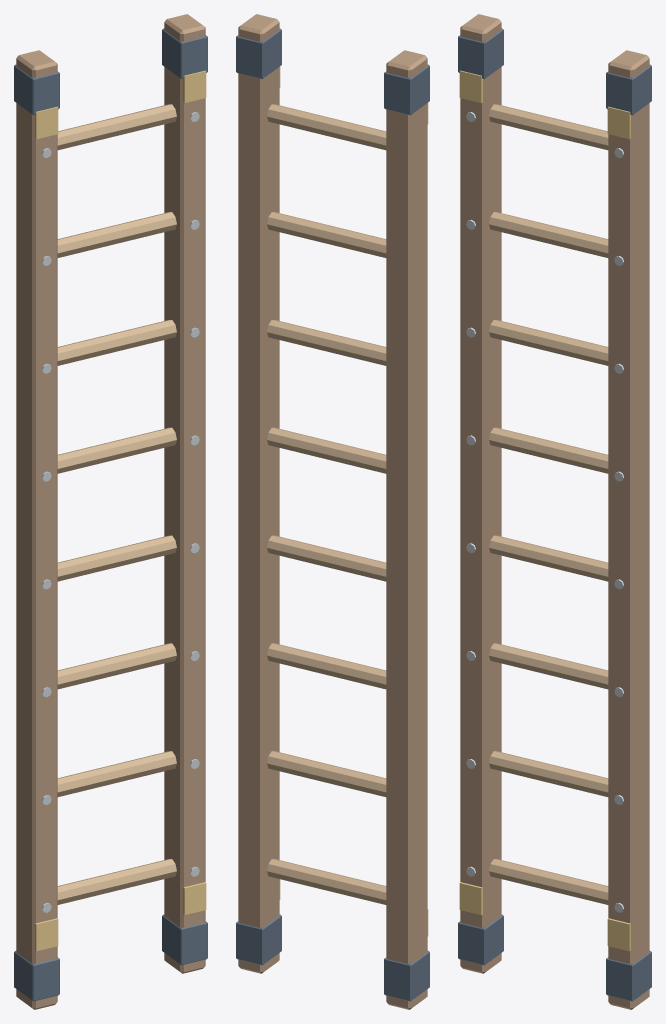
File: ladder.glb
3 renders of one model, left to right at view 1: azimuth 30°, elevation 25°; view 2: azimuth 150°, elevation 25°; view 3: azimuth 330°, elevation 25°, orthographic.
Visible parts, largest first — view 1: ladder_side_rail, ladder_side_rail.001, ladder_rung.002, ladder_rung.004, ladder_rung.003, ladder_rung, ladder_rung.006, ladder_rung.005, ladder_rung.007, ladder_rung.001, ladder_end_binding, ladder_end_binding.002 (+6 smaller); view 2: ladder_side_rail, ladder_side_rail.001, ladder_rung.002, ladder_rung.004, ladder_rung.003, ladder_rung.007, ladder_rung, ladder_rung.006, ladder_rung.005, ladder_rung.001, ladder_end_binding, ladder_end_binding.003 (+2 smaller); view 3: ladder_side_rail.001, ladder_side_rail, ladder_rung.002, ladder_rung.004, ladder_rung.003, ladder_rung, ladder_rung.006, ladder_rung.005, ladder_rung.007, ladder_rung.001, ladder_end_binding.002, ladder_end_binding (+6 smaller).
Part boxes in pixels (<box>): ladder_side_rail: <box>16,50,57,1009</box>; ladder_side_rail.001: <box>164,14,205,973</box>; ladder_rung.002: <box>57,643,176,689</box>; ladder_rung.004: <box>57,427,176,473</box>; ladder_rung.003: <box>57,535,176,581</box>; ladder_rung: <box>57,859,176,904</box>; ladder_rung.006: <box>57,212,176,257</box>; ladder_rung.005: <box>57,320,176,365</box>; ladder_rung.007: <box>57,104,176,150</box>; ladder_rung.001: <box>57,751,176,796</box>; ladder_end_binding: <box>14,951,59,1001</box>; ladder_end_binding.002: <box>162,914,207,965</box>; ladder_side_rail: <box>386,50,427,1009</box>; ladder_side_rail.001: <box>238,14,279,973</box>; ladder_rung.002: <box>267,643,386,689</box>; ladder_rung.004: <box>267,427,386,473</box>; ladder_rung.003: <box>267,535,386,581</box>; ladder_rung.007: <box>267,104,386,150</box>; ladder_rung: <box>267,859,386,904</box>; ladder_rung.006: <box>267,212,386,257</box>; ladder_rung.005: <box>267,320,386,365</box>; ladder_rung.001: <box>267,751,386,796</box>; ladder_end_binding: <box>384,951,429,1001</box>; ladder_end_binding.003: <box>236,28,281,78</box>; ladder_side_rail.001: <box>608,50,649,1009</box>; ladder_side_rail: <box>460,14,501,973</box>; ladder_rung.002: <box>489,643,608,689</box>; ladder_rung.004: <box>489,427,608,473</box>; ladder_rung.003: <box>489,535,608,581</box>; ladder_rung: <box>489,859,608,904</box>; ladder_rung.006: <box>489,212,608,257</box>; ladder_rung.005: <box>489,320,608,365</box>; ladder_rung.007: <box>489,104,608,150</box>; ladder_rung.001: <box>489,751,608,796</box>; ladder_end_binding.002: <box>606,951,651,1001</box>; ladder_end_binding: <box>458,914,503,965</box>.
Bounding box in the file's own units: 0.545 × 2.8 × 0.1085.
